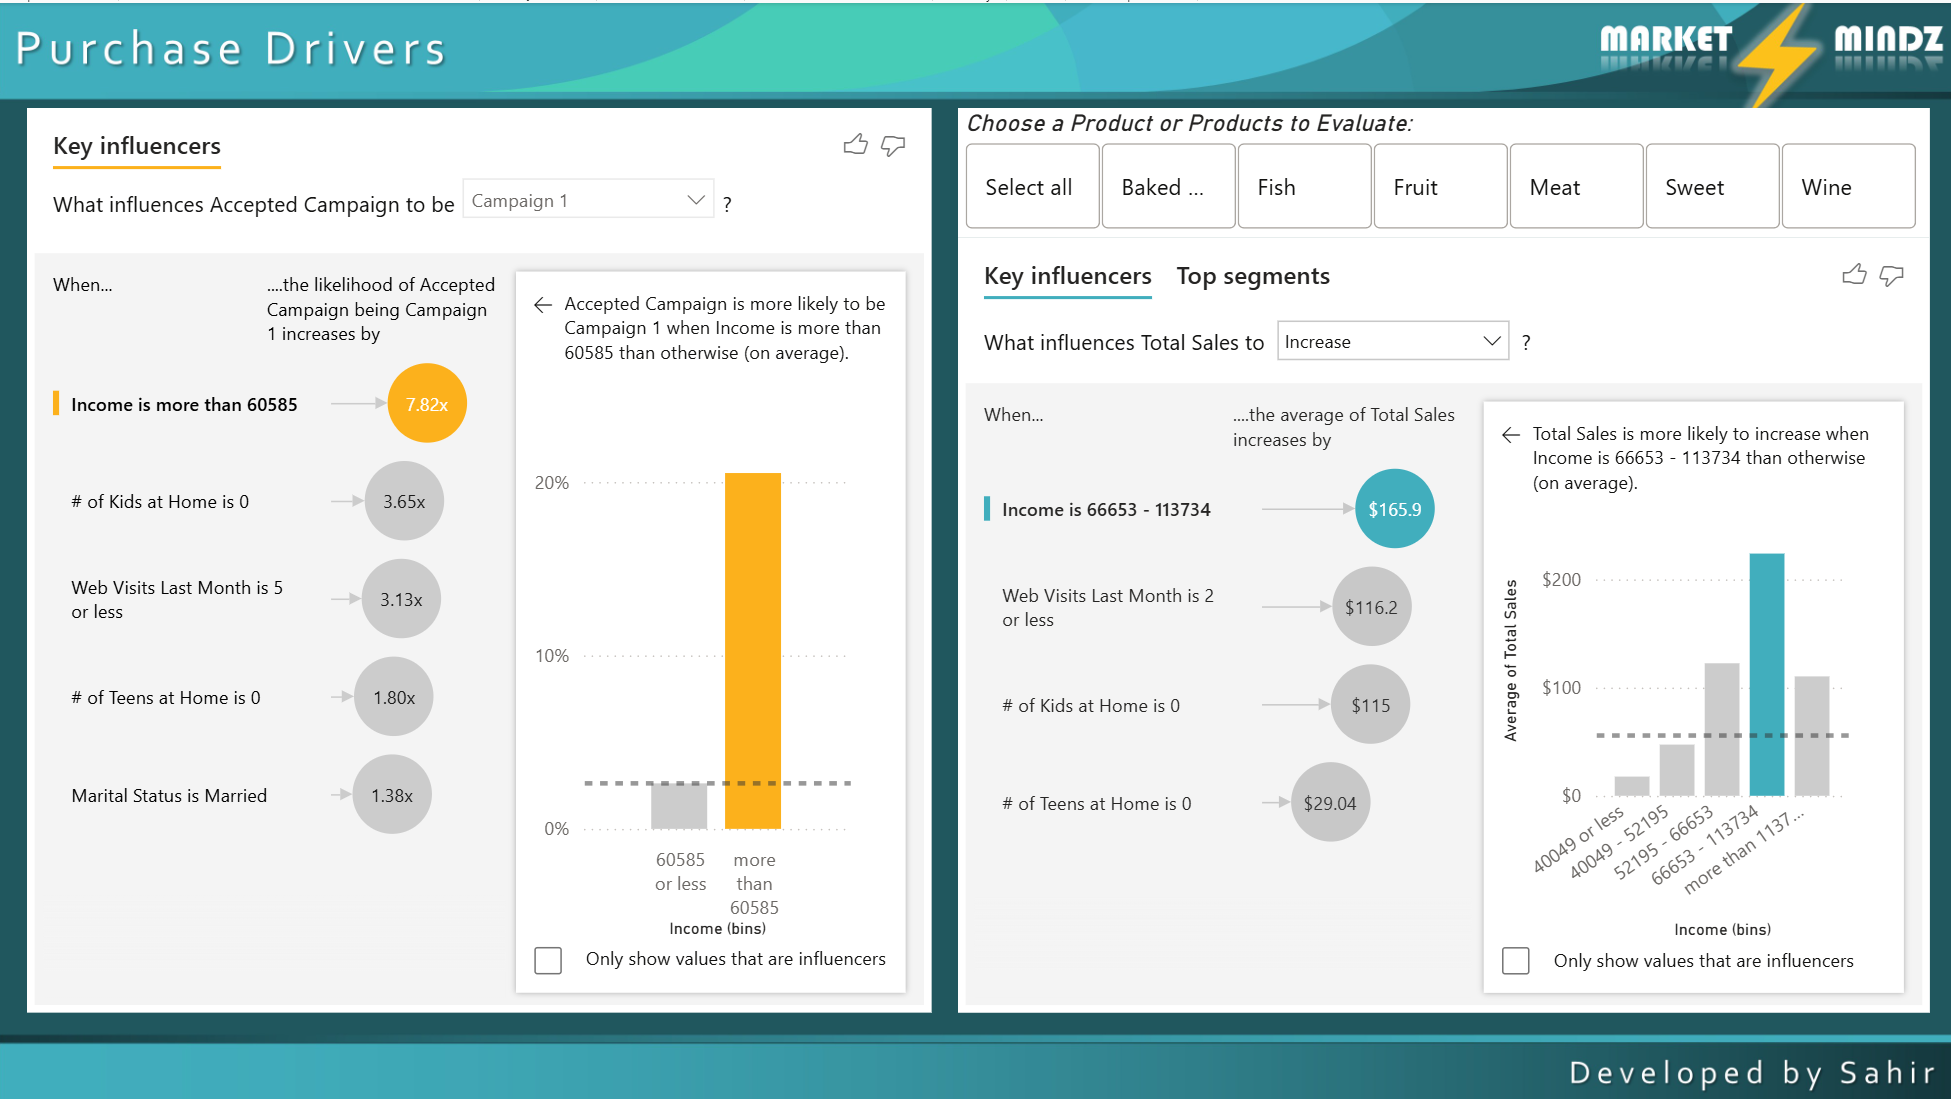

The dashboard page shown, as its layout file describes it:
{"tool":"powerbi","page":{"name":"Purchase Drivers","canvas":[1280,720],"ordinal":2},"visuals":[{"type":"keyDriversVisual","fields":{"Target":["campaign.Campaign"],"ExplainBy":["marketing_data.Age","marketing_data. Income ","marketing_data.Country","marketing_data.Education","marketing_data.Marital_Status","marketing_data.Teenhome","marketing_data.Kidhome","marketing_data.Web Visits Last Month"]},"box":[18.4,68.7,591.7,591.7],"z":0},{"type":"keyDriversVisual","fields":{"ExplainBy":["marketing_data.Age","marketing_data. Income ","marketing_data.Country","marketing_data.Education","marketing_data.Marital_Status","marketing_data.Teenhome","marketing_data.Kidhome","marketing_data.Web Visits Last Month"],"Target":["products.Total Sales"]},"box":[627.3,153.5,635.9,507],"z":1000},{"type":"advancedSlicerVisual","title":"Choose a Product or Products to Evaluate:","fields":{"Values":["products.Product"]},"box":[627.3,68.7,635.9,84.7],"z":2000}]}

Visuals, with their boxes in screenshot pixels (x1, y1, x2, y2), scaled from the page's 1280x720 canvas onto the 1951x1099 screenshot:
keyDriversVisual - campaign.Campaign x marketing_data.Age: <box>28,105,930,1008</box>
keyDriversVisual - marketing_data.Age x marketing_data. Income : <box>956,234,1925,1008</box>
"Choose a Product or Products to Evaluate:" advancedSlicerVisual: <box>956,105,1925,234</box>
